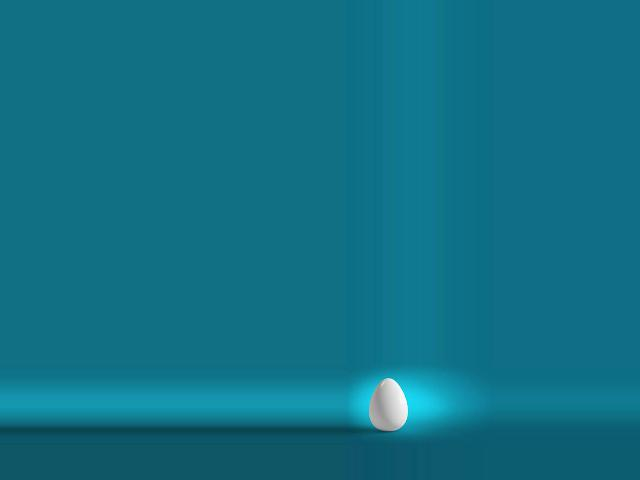egg: (368, 378, 407, 432)
